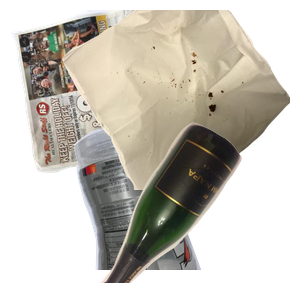glass: (87, 120, 300, 300)
paper: (10, 10, 210, 175)
plastic: (71, 120, 265, 300)
trash: (60, 10, 300, 190)
